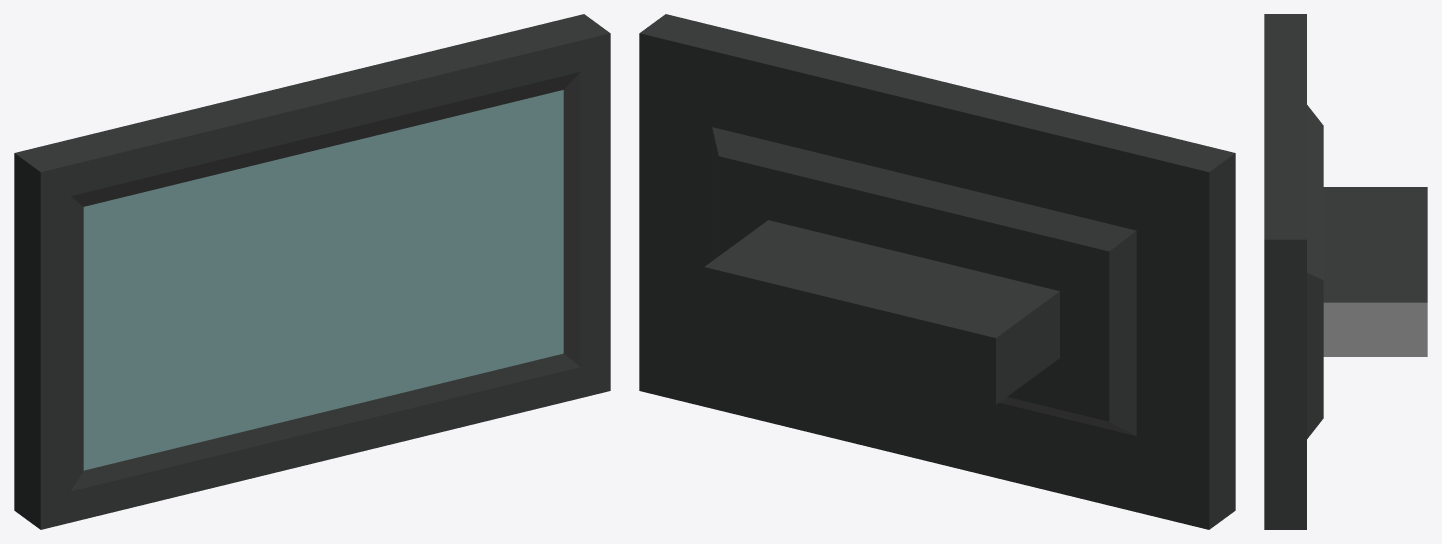
3 renders of one model, left to right at view 1: azimuth 30°, elevation 25°; view 2: azimuth 150°, elevation 25°; view 3: azimuth 270°, elevation 25°, orthographic. The views are drawn at different scales.
Visible parts, largest first — view 1: pCube1; view 2: pCube1; view 3: pCube1.
Part boxes in pixels (x1=…): pCube1: x1=14, y1=14, x2=610, y2=529; pCube1: x1=639, y1=14, x2=1235, y2=529; pCube1: x1=1264, y1=14, x2=1427, y2=529.
Size of the model in its own units: 250 by 150 by 76.43.
